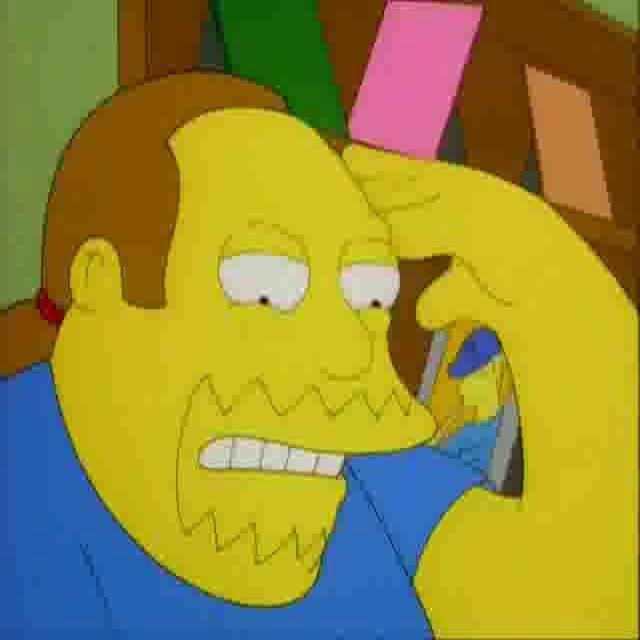Comic Book Guy: (1, 69, 440, 611)
